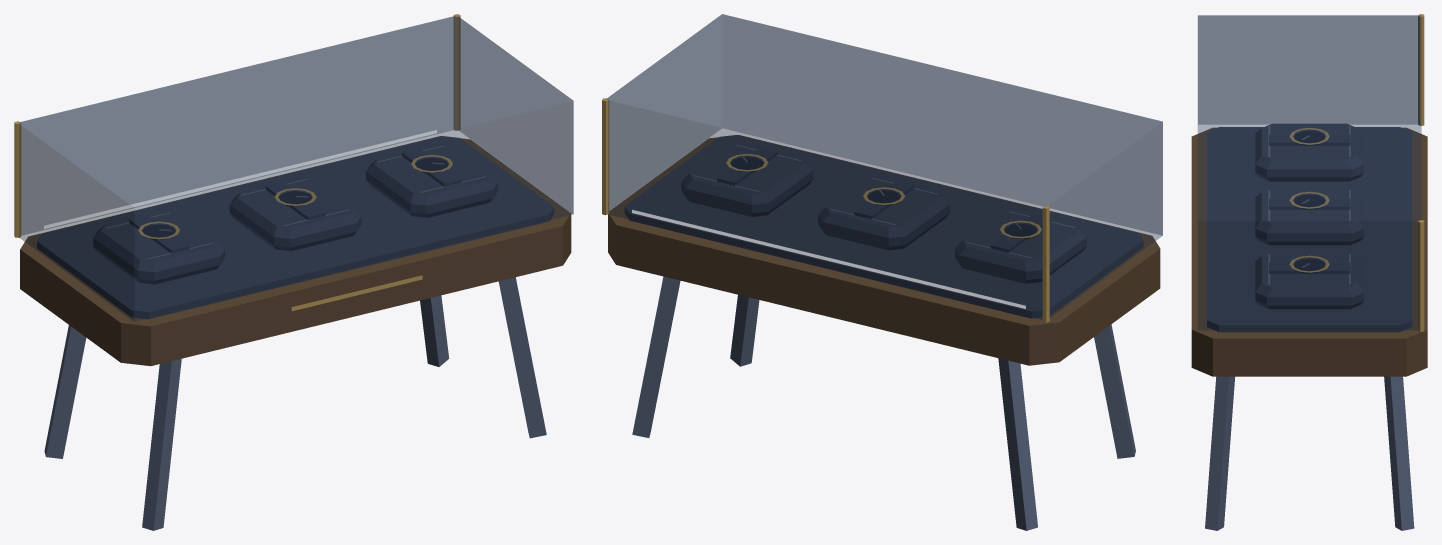
The model's file is res_luxury_watch_case.glb.
3 views of the same model, side by side, from view 1: azimuth 30°, elevation 25°; view 2: azimuth 150°, elevation 25°; view 3: azimuth 270°, elevation 25° (orthographic). The views are drawn at different scales.
Parts seen in each view (by area): view 1: case_lid, piped_cushion, watch_drawer, splayed_foot, case_edge, watch_strap, case_led, watch_dial; view 2: case_lid, piped_cushion, watch_drawer, splayed_foot, case_edge, watch_strap, case_led, watch_dial; view 3: case_lid, piped_cushion, watch_drawer, splayed_foot, case_edge, watch_strap, watch_dial, stitched_welt.
Boxes of the visible parts, x1=… form: case_lid: x1=18, y1=16, x2=573, y2=321; piped_cushion: x1=37, y1=136, x2=554, y2=319; watch_drawer: x1=20, y1=136, x2=571, y2=366; splayed_foot: x1=44, y1=277, x2=546, y2=530; case_edge: x1=14, y1=14, x2=460, y2=311; watch_strap: x1=129, y1=148, x2=462, y2=253; case_led: x1=44, y1=130, x2=436, y2=228; watch_dial: x1=142, y1=158, x2=448, y2=239; case_lid: x1=606, y1=14, x2=1162, y2=319; piped_cushion: x1=624, y1=135, x2=1143, y2=318; watch_drawer: x1=608, y1=135, x2=1160, y2=365; splayed_foot: x1=632, y1=276, x2=1135, y2=530; case_edge: x1=602, y1=98, x2=1049, y2=322; watch_strap: x1=717, y1=147, x2=1051, y2=252; case_led: x1=632, y1=210, x2=1025, y2=308; watch_dial: x1=731, y1=157, x2=1037, y2=238; case_lid: x1=1198, y1=15, x2=1421, y2=330; piped_cushion: x1=1207, y1=123, x2=1412, y2=332; watch_drawer: x1=1191, y1=127, x2=1427, y2=376; splayed_foot: x1=1205, y1=376, x2=1414, y2=530; case_edge: x1=1289, y1=14, x2=1424, y2=331; watch_strap: x1=1269, y1=134, x2=1350, y2=273; watch_dial: x1=1294, y1=130, x2=1325, y2=273; stitched_welt: x1=1268, y1=126, x2=1350, y2=284.
Size of the model in its own units: 1.65 by 1.17 by 0.78.
